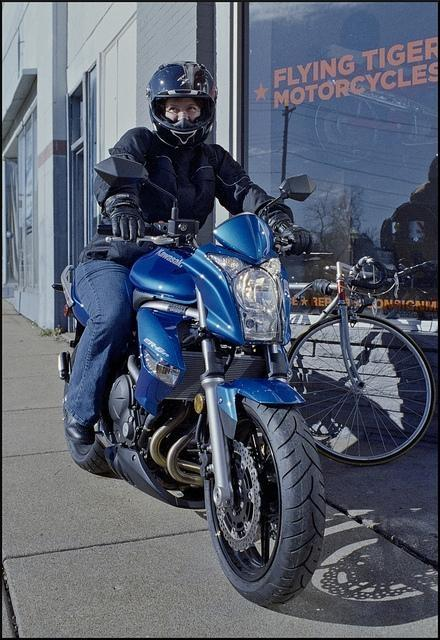bicycle: (290, 260, 440, 472)
motorcycle: (107, 170, 326, 602)
